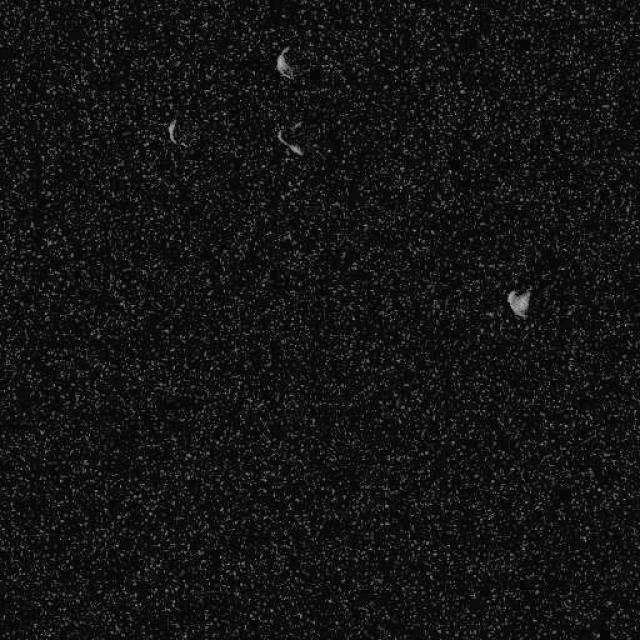D2: (505, 285, 533, 317), (275, 129, 304, 156), (274, 44, 295, 78), (165, 116, 179, 144)
